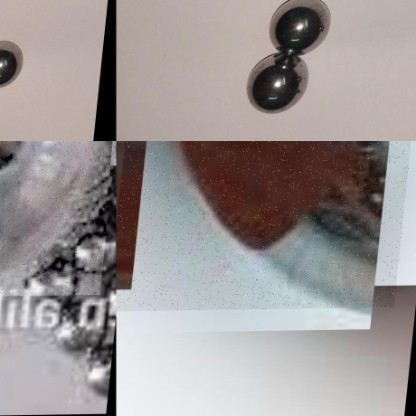ironball: (116, 141, 415, 311), (0, 141, 116, 300), (245, 51, 310, 111), (269, 0, 336, 56), (0, 41, 23, 90)
